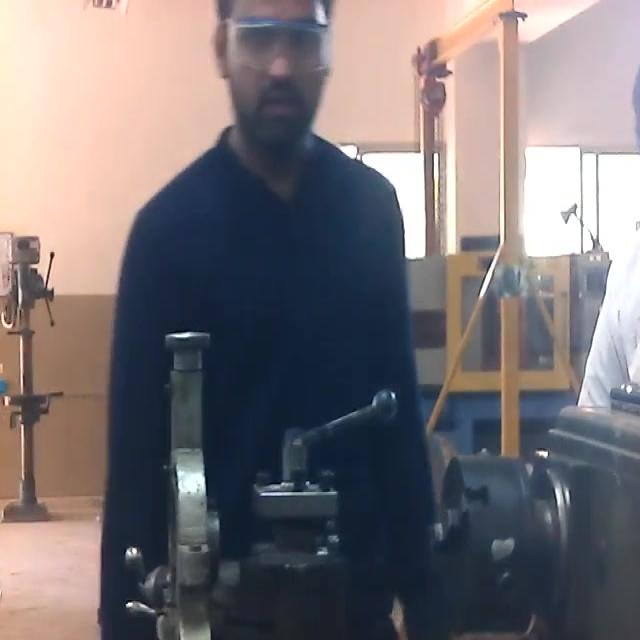googles: (222, 10, 330, 78)
